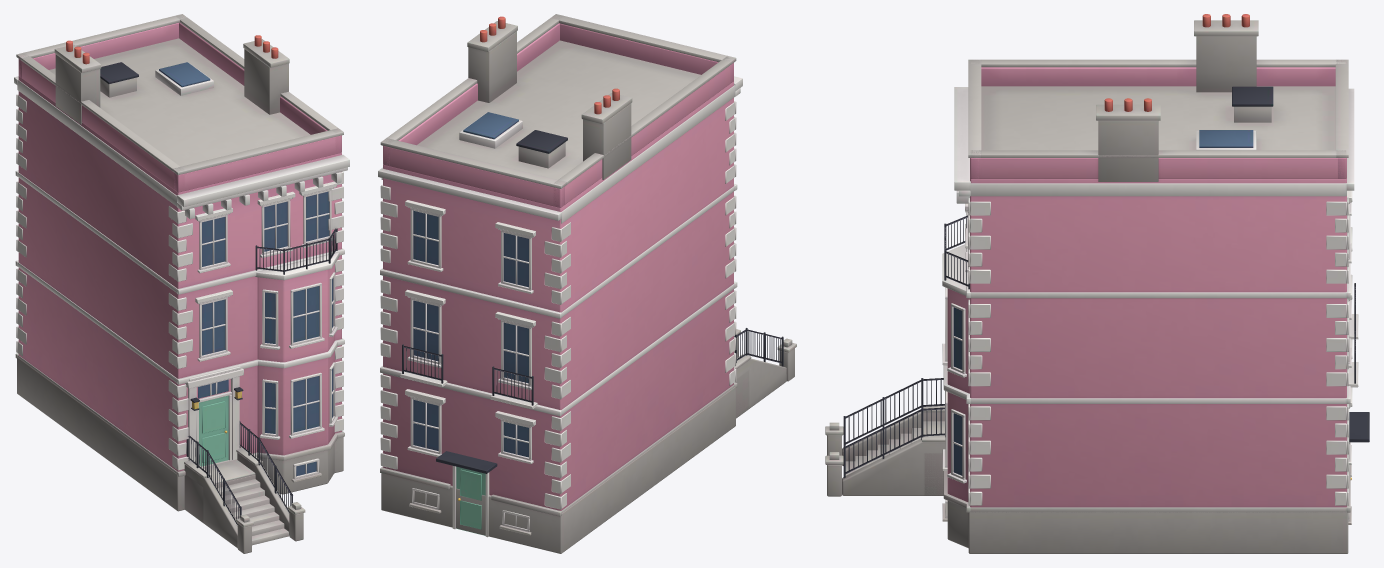
File: brick_building_facade.glb
3 renders of one model, left to right at view 1: azimuth 30°, elevation 25°; view 2: azimuth 150°, elevation 25°; view 3: azimuth 270°, elevation 25°, orthographic. The views are drawn at different scales.
Parts seen in each view (by area): view 1: townhouse_body, townhouse_trim; view 2: townhouse_body, townhouse_trim; view 3: townhouse_body, townhouse_trim.
Boxes of the visible parts, <box> form: townhouse_body: <box>14,14,349,553</box>; townhouse_trim: <box>16,94,343,525</box>; townhouse_body: <box>378,14,796,553</box>; townhouse_trim: <box>380,101,783,537</box>; townhouse_body: <box>825,14,1354,553</box>; townhouse_trim: <box>843,190,1369,524</box>.
Size of the model in its own units: 6 by 13.15 by 14.44.
2 materials, 2 textured.
